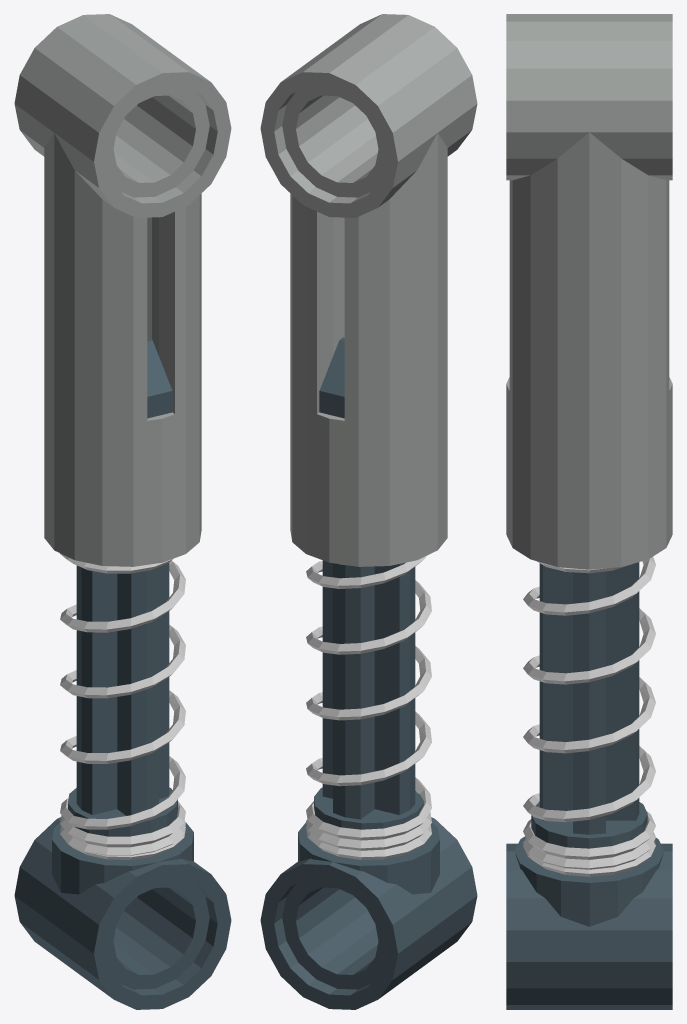
The picture shows the model from 3 angles, left to right: view 1: azimuth 30°, elevation 25°; view 2: azimuth 150°, elevation 25°; view 3: azimuth 270°, elevation 25°; orthographic projection. The views are drawn at different scales.
Visible parts, largest first — view 1: world; view 2: world; view 3: world.
Part boxes in pixels (x1,y1,x2,y2): world: (14,14,231,1009); world: (260,14,477,1009); world: (506,14,672,1009).
Size of the model in its own units: 0.008 by 0.052 by 0.008.
